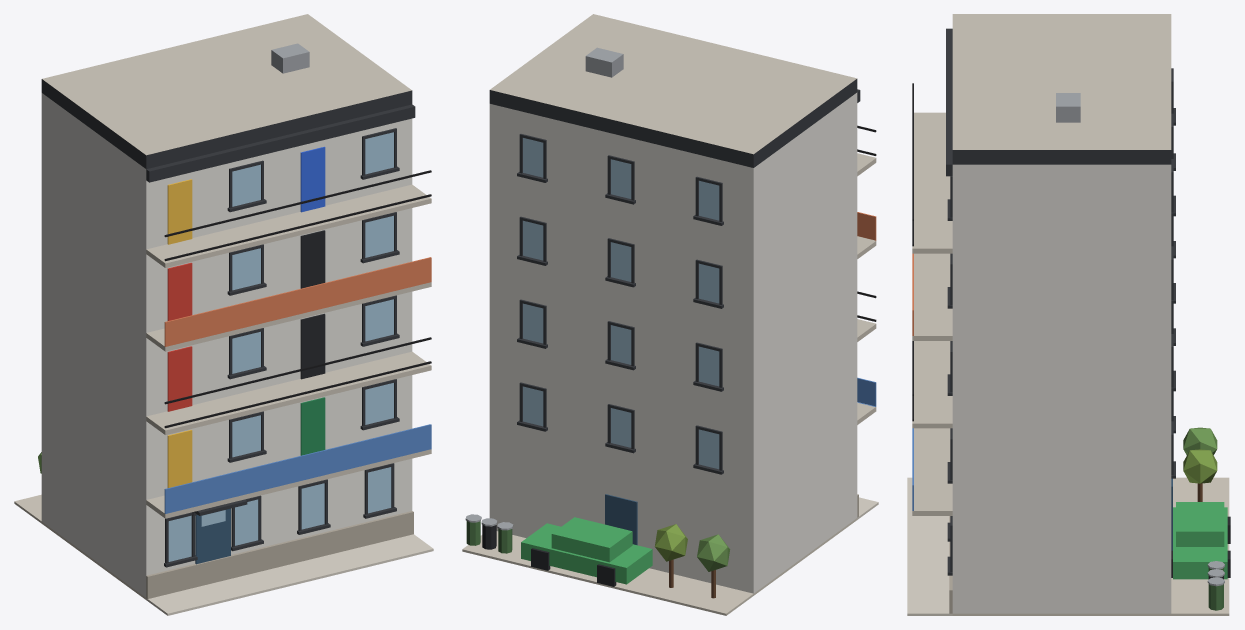
File: Blok_duz_5k_7_Hafif.fbx
3 renders of one model, left to right at view 1: azimuth 30°, elevation 25°; view 2: azimuth 150°, elevation 25°; view 3: azimuth 270°, elevation 25°, orthographic. The views are drawn at different scales.
Parts seen in each view (by area): view 1: Blok_duz_5k_7_Hafif; view 2: Blok_duz_5k_7_Hafif; view 3: Blok_duz_5k_7_Hafif.
Boxes of the visible parts, <box> form: Blok_duz_5k_7_Hafif: <box>14,14,433,615</box>; Blok_duz_5k_7_Hafif: <box>462,14,878,615</box>; Blok_duz_5k_7_Hafif: <box>907,14,1230,615</box>.
Bounding box in the file's own units: 10.07 × 16.53 × 10.04.
